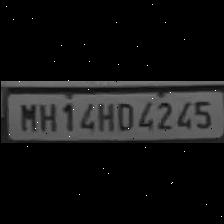1: (56, 100, 74, 132)
2: (154, 98, 172, 130)
4: (76, 98, 96, 132), (134, 98, 154, 130), (173, 97, 193, 129)
5: (192, 97, 212, 129)
D: (113, 98, 133, 130)
H: (36, 99, 58, 131), (94, 99, 114, 131)
M: (16, 99, 36, 131)
